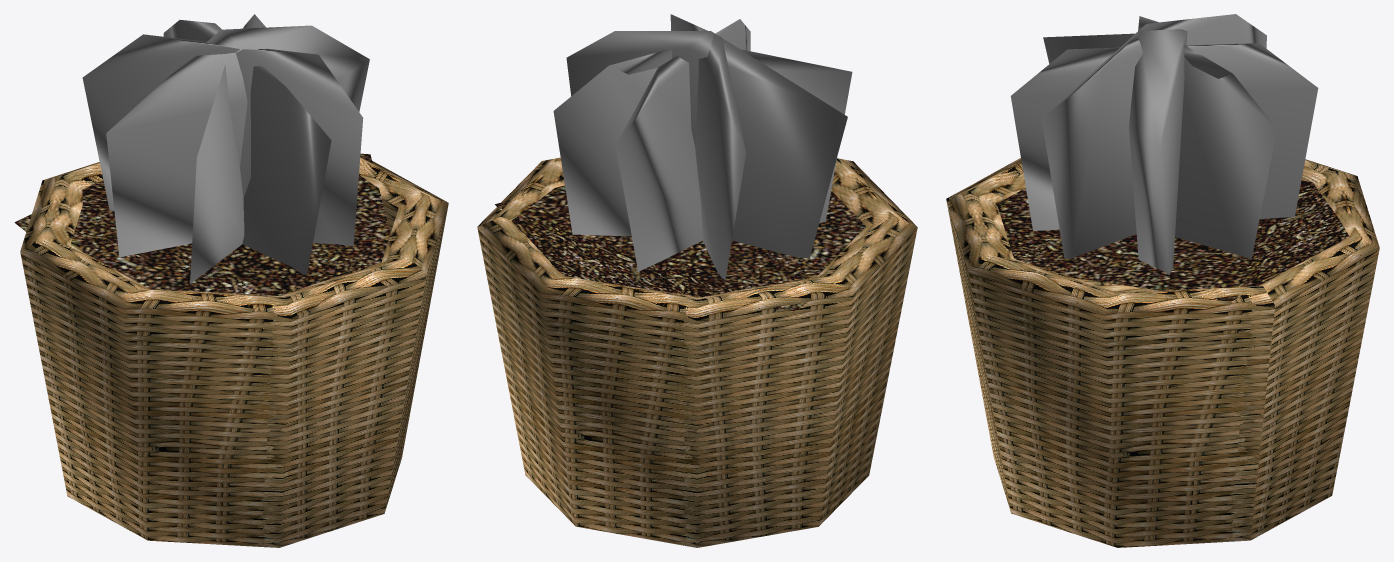
The model's file is Cactus_lod2.fbx.
The picture shows the model from 3 angles, left to right: view 1: azimuth 30°, elevation 25°; view 2: azimuth 150°, elevation 25°; view 3: azimuth 270°, elevation 25°; orthographic projection.
Parts seen in each view (by area): view 1: Cactus_lod2; view 2: Cactus_lod2; view 3: Cactus_lod2.
Part boxes in pixels (x1,y1,x2,y2): Cactus_lod2: (14, 14, 448, 547); Cactus_lod2: (477, 14, 917, 547); Cactus_lod2: (946, 14, 1379, 547).
Bounding box in the file's own units: 20 × 23.36 × 20.
Materials: 2 (1 with a texture image).
